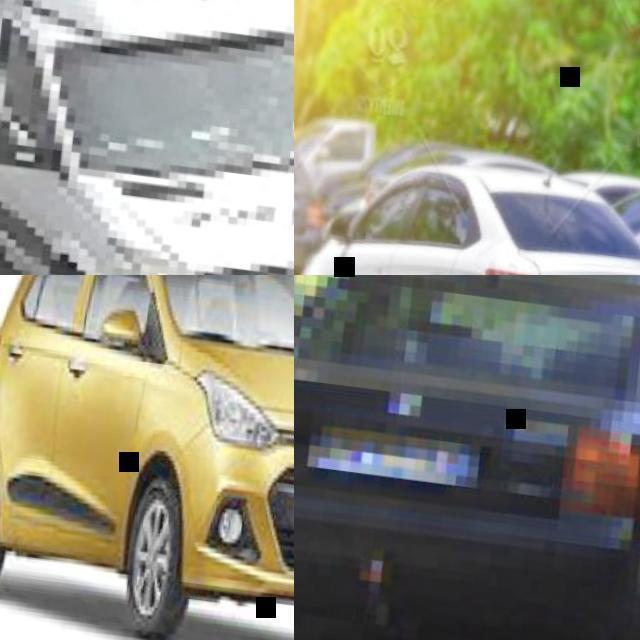car: (1, 271, 293, 639)
